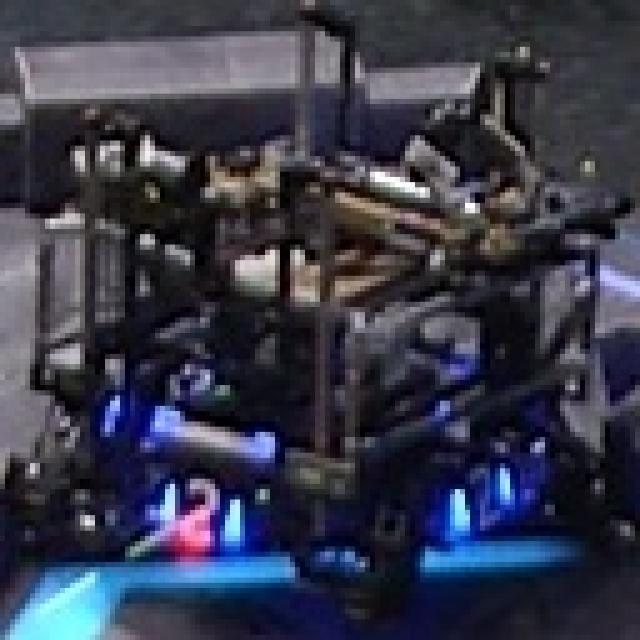B2: (145, 461, 255, 554), (438, 455, 518, 539)
